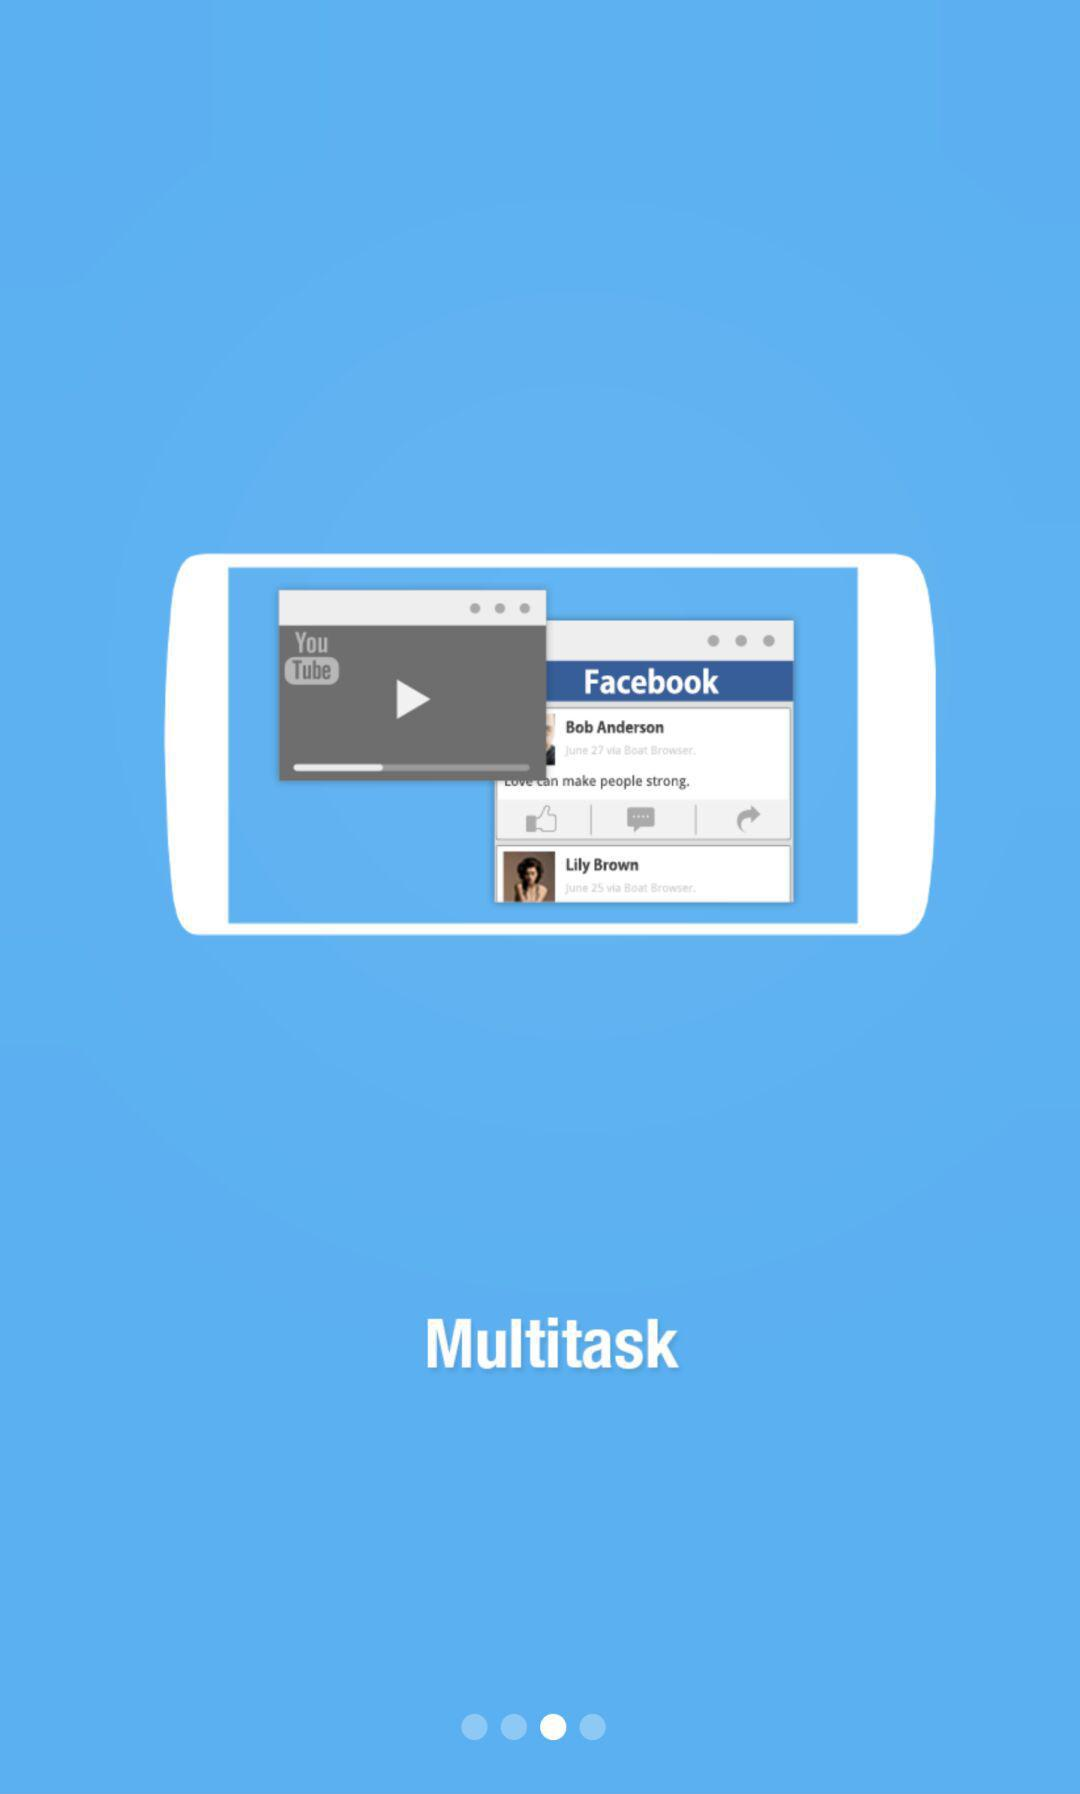Image: (164, 552, 938, 938)
PageIndicator: (459, 1712, 609, 1743)
Text: (427, 1315, 682, 1371)
